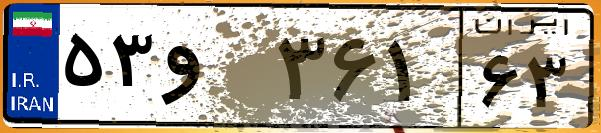1: (385, 28, 445, 110)
3: (270, 28, 330, 110), (525, 38, 570, 115), (110, 28, 158, 98)
5: (57, 26, 110, 100)
6: (330, 28, 385, 110), (475, 38, 525, 113)
و: (158, 20, 270, 120)
